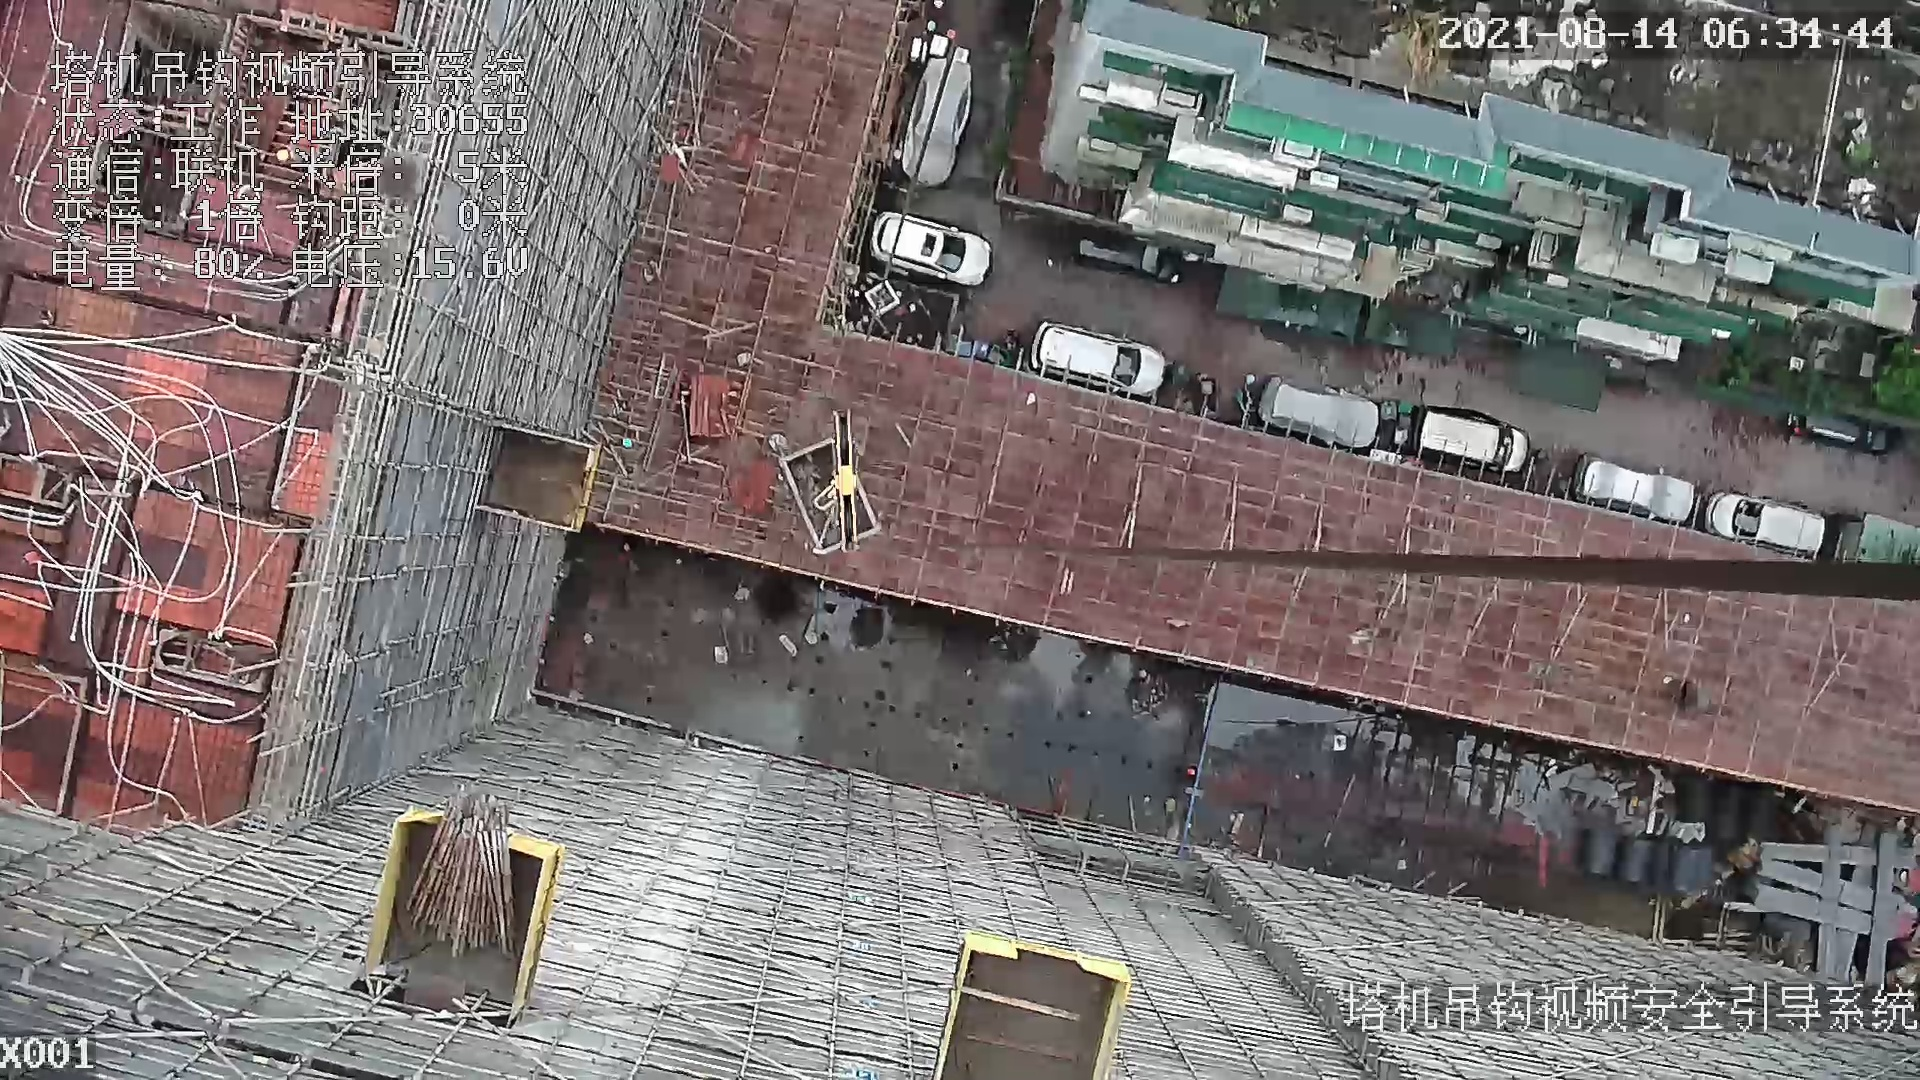hook: (815, 407, 855, 555)
hopper: (771, 433, 886, 568)
scaffold: (405, 781, 531, 965)
